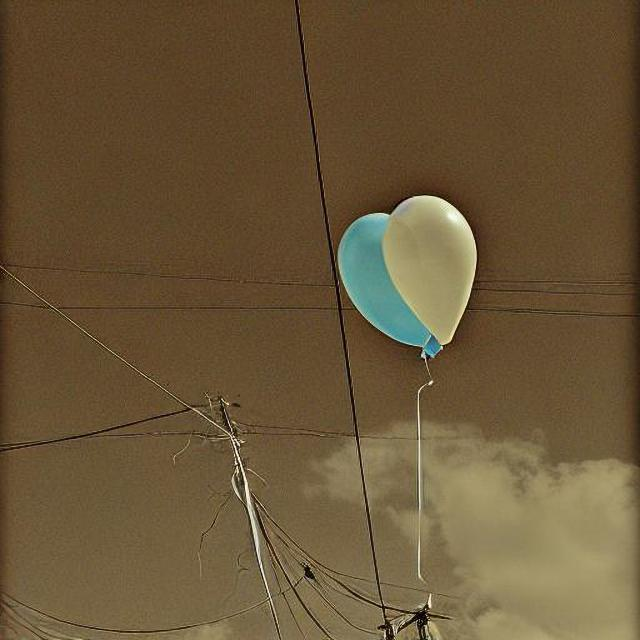balloon: (338, 199, 477, 353)
